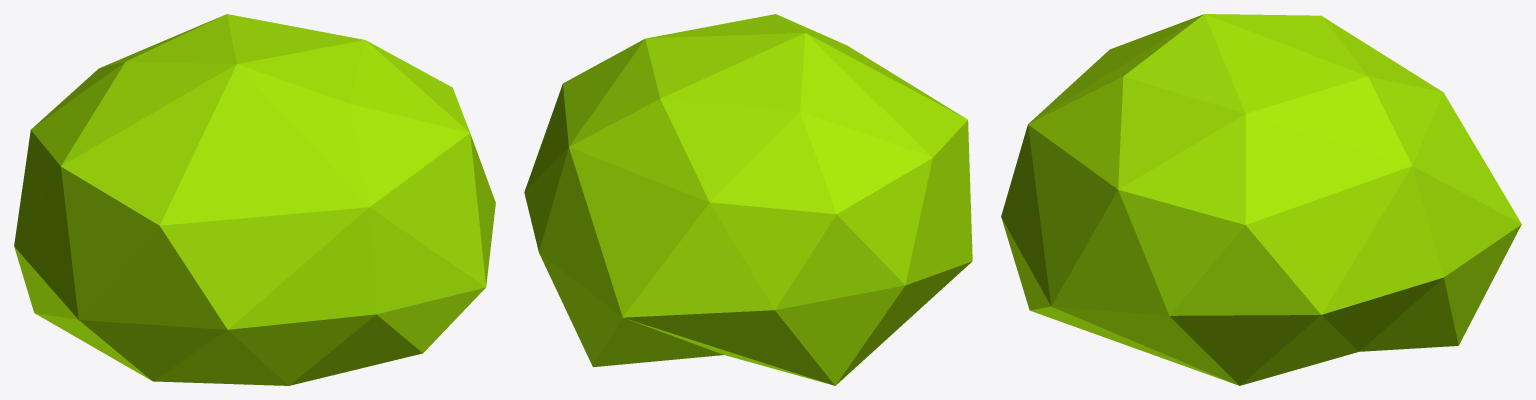
Rendered from struik1.fbx.
3 views of the same model, side by side, from view 1: azimuth 30°, elevation 25°; view 2: azimuth 150°, elevation 25°; view 3: azimuth 270°, elevation 25° (orthographic). The views are drawn at different scales.
Parts seen in each view (by area): view 1: Icosphere; view 2: Icosphere; view 3: Icosphere.
Boxes of the visible parts, bbox=[...] form: Icosphere: bbox=[14, 14, 495, 385]; Icosphere: bbox=[524, 14, 972, 385]; Icosphere: bbox=[1001, 14, 1521, 385].
Size of the model in its own units: 359 by 239 by 397.
